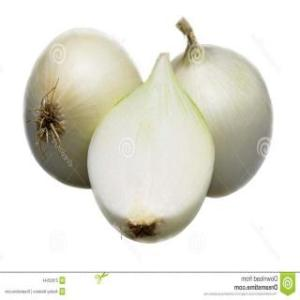onion: (86, 52, 214, 242), (153, 18, 272, 198), (22, 28, 144, 188)
